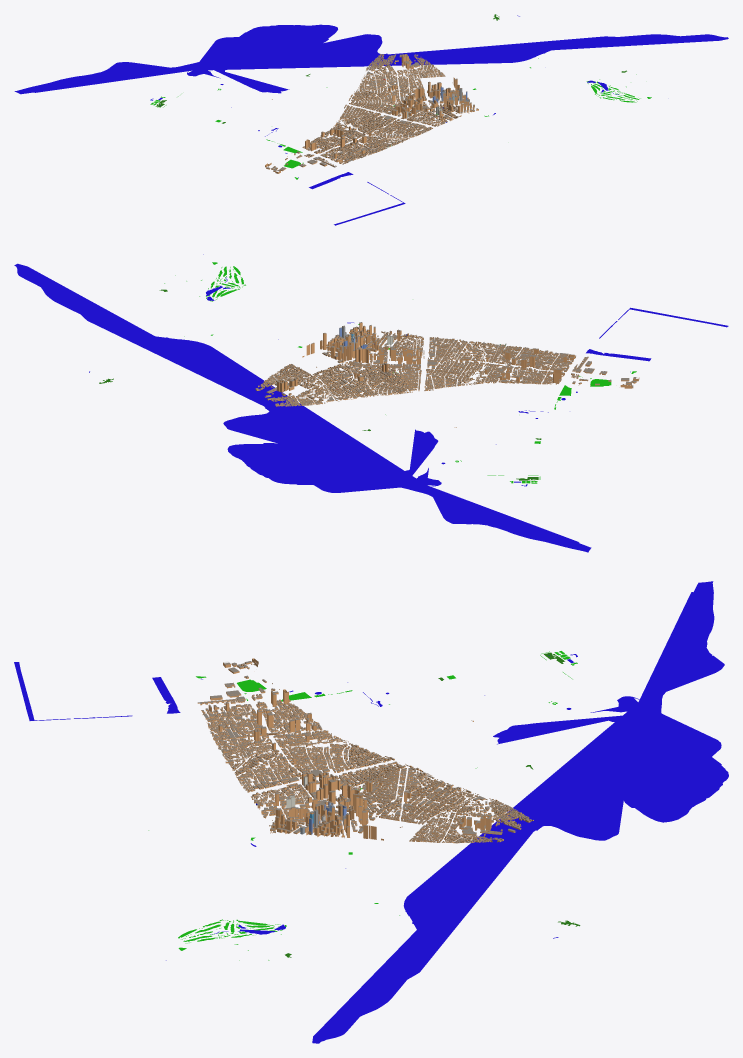
File: jeeprouteEdit_1.fbx
3 renders of one model, top to bottom at view 1: azimuth 30°, elevation 25°; view 2: azimuth 150°, elevation 25°; view 3: azimuth 270°, elevation 25°, orthographic. The views are drawn at different scales.
Parts seen in each view (by area): view 1: map_10.osm_water, map_10.osm_buildings, map_10.osm_vegetation; view 2: map_10.osm_water, map_10.osm_buildings, map_10.osm_vegetation; view 3: map_10.osm_water, map_10.osm_buildings, map_10.osm_vegetation.
Boxes of the visible parts, x1,y1,x2,y2 form: map_10.osm_water: (14, 15, 728, 225); map_10.osm_buildings: (265, 54, 478, 173); map_10.osm_vegetation: (150, 58, 651, 179); map_10.osm_water: (14, 254, 728, 552); map_10.osm_buildings: (255, 322, 639, 427); map_10.osm_vegetation: (164, 262, 636, 483); map_10.osm_water: (14, 581, 728, 1043); map_10.osm_buildings: (197, 658, 533, 843); map_10.osm_vegetation: (148, 651, 577, 960).
Size of the model in its own units: 1165873 by 29586 by 761481.
